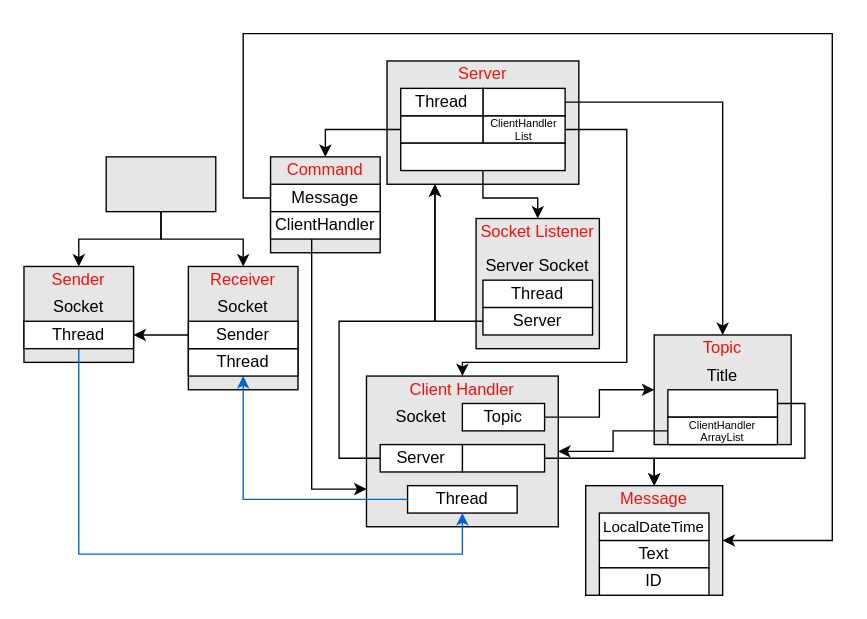
Image size: 867x619. Some labels were removed from this diagram. Each missing label, with the centre of its shape:
"Client" belongs at [160,183].
"Command LinkedList" belongs at [441,128].
"Message ArrayList" belongs at [722,402].
"Message List" belongs at [503,457].
"SocketListener" belongs at [482,156].
"Topic HashSet" belongs at [523,101].
